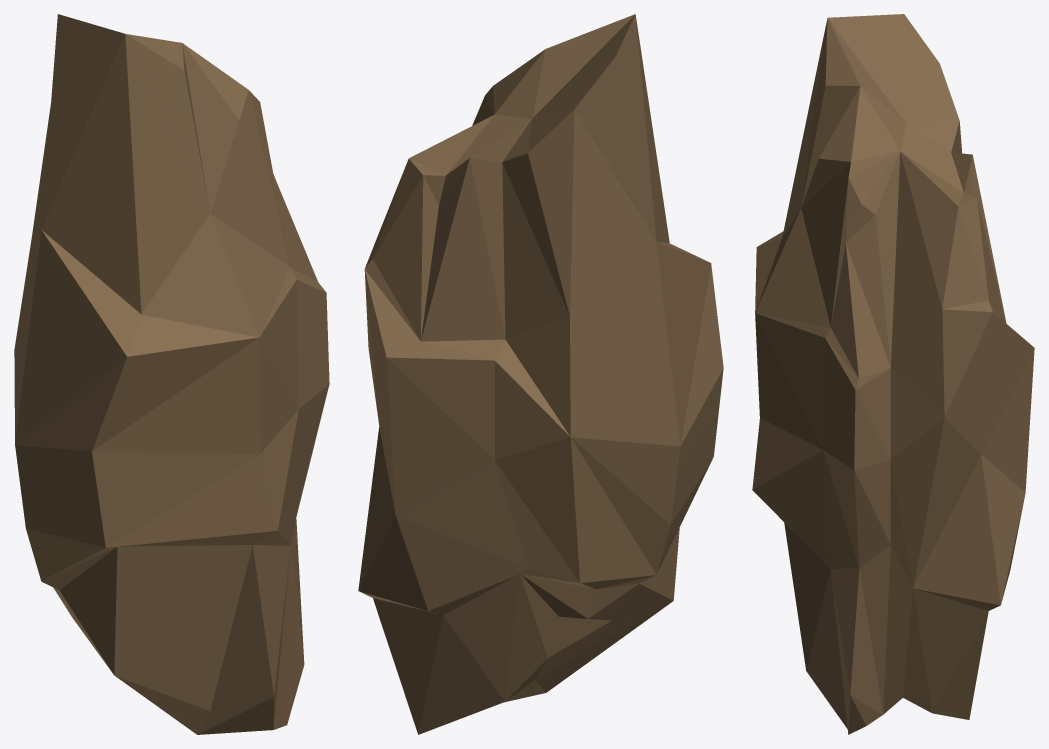
Rendered from SM_Env_Rock_013.gltf.
3 renders of one model, left to right at view 1: azimuth 30°, elevation 25°; view 2: azimuth 150°, elevation 25°; view 3: azimuth 270°, elevation 25°, orthographic. The views are drawn at different scales.
Visible parts, largest first — view 1: SM_Env_Rock_013; view 2: SM_Env_Rock_013; view 3: SM_Env_Rock_013.
Part boxes in pixels (x1=…): SM_Env_Rock_013: x1=14, y1=14, x2=329, y2=734; SM_Env_Rock_013: x1=358, y1=14, x2=723, y2=734; SM_Env_Rock_013: x1=752, y1=14, x2=1034, y2=734.
Bounding box in the file's own units: 1.81 × 4.32 × 1.71.
Materials: 1 (1 with a texture image).
